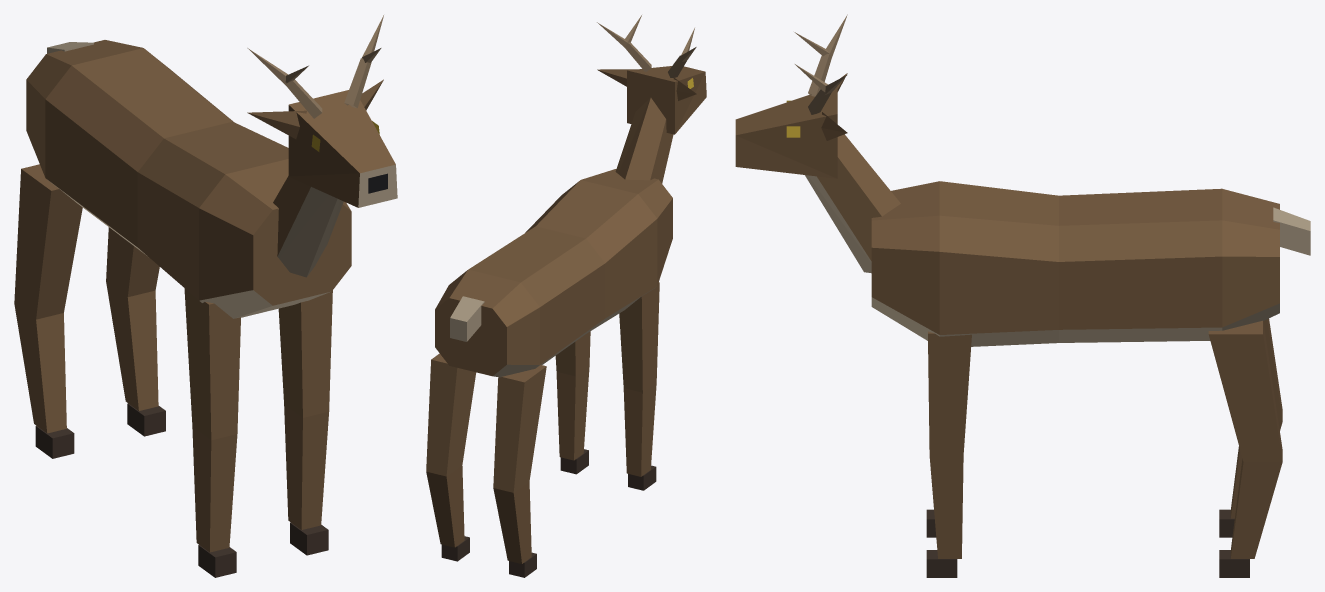
The model's file is deer.glb.
The picture shows the model from 3 angles, left to right: view 1: azimuth 30°, elevation 25°; view 2: azimuth 150°, elevation 25°; view 3: azimuth 270°, elevation 25°; orthographic projection. The views are drawn at different scales.
Visible parts, largest first — view 1: Body, Head, LegBR, LegFR, LegFL, LegBL; view 2: Body, Head, LegBR, LegBL, LegFR, LegFL, Tail; view 3: Body, Head, LegBL, LegFL, LegBR, Tail.
Boxes of the visible parts, x1=… form: Body: x1=26, y1=40, x2=351, y2=318; Head: x1=247, y1=15, x2=397, y2=277; LegBR: x1=14, y1=164, x2=82, y2=458; LegFR: x1=184, y1=288, x2=240, y2=577; LegFL: x1=278, y1=290, x2=332, y2=555; LegBL: x1=106, y1=227, x2=165, y2=436; Body: x1=435, y1=169, x2=672, y2=377; Head: x1=597, y1=15, x2=706, y2=183; LegBR: x1=493, y1=365, x2=546, y2=577; LegBL: x1=426, y1=353, x2=476, y2=561; LegFR: x1=619, y1=282, x2=659, y2=490; LegFL: x1=555, y1=331, x2=590, y2=474; Tail: x1=450, y1=296, x2=484, y2=341; Body: x1=871, y1=181, x2=1279, y2=346; Head: x1=735, y1=14, x2=900, y2=273; LegBL: x1=1208, y1=320, x2=1282, y2=577; LegFL: x1=926, y1=331, x2=971, y2=577; LegBR: x1=1219, y1=318, x2=1282, y2=537; Tail: x1=1273, y1=207, x2=1310, y2=255.
Bounding box in the file's own units: 0.42 × 1.65 × 1.69.
